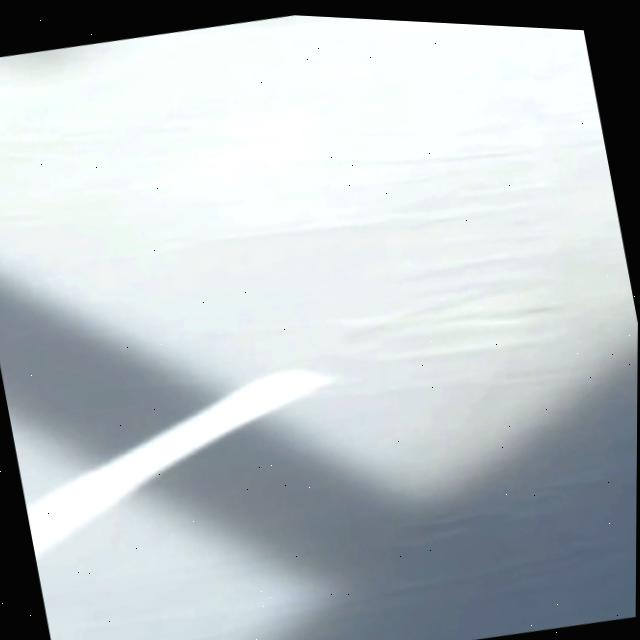center: (26, 369, 333, 559)
